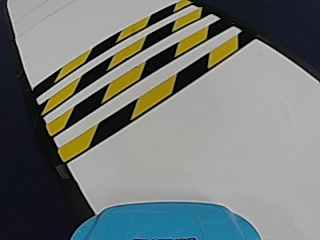bump: (41, 15, 199, 123)
